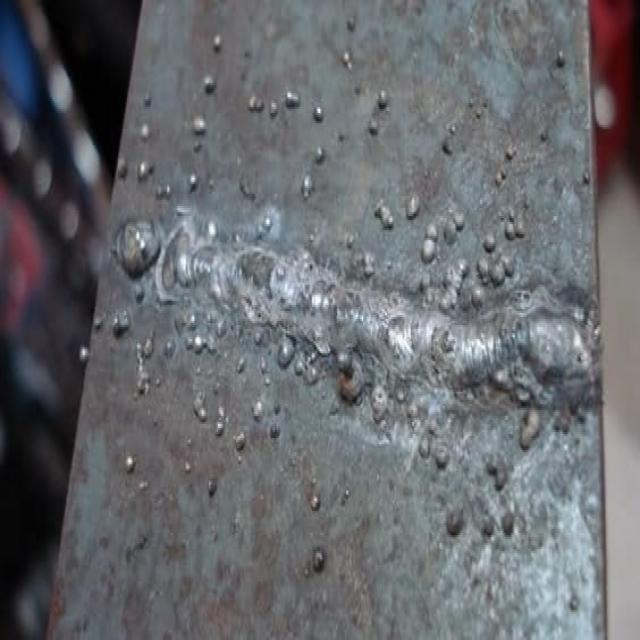Bad Weld: (116, 202, 594, 414)
Defect: (192, 329, 294, 444), (421, 200, 512, 293)
